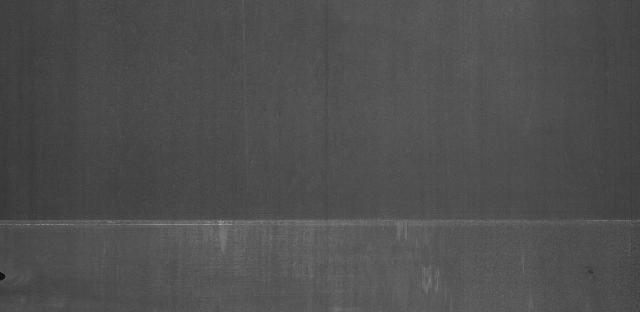welding_line: (1, 205, 640, 239)
